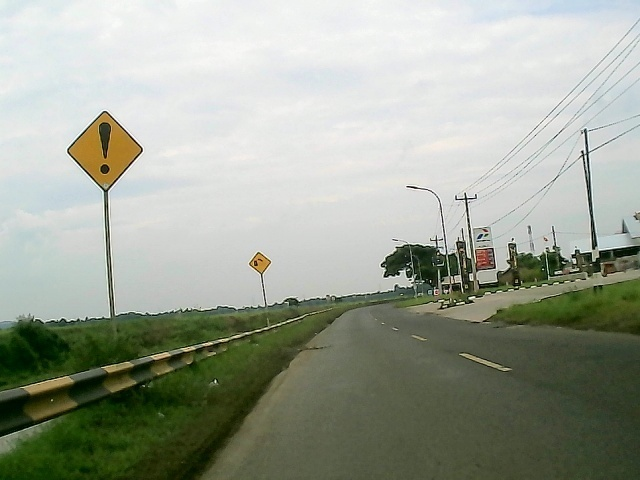Hati-hati: (63, 109, 147, 193)
Peringatan tepi air: (244, 250, 273, 278)
